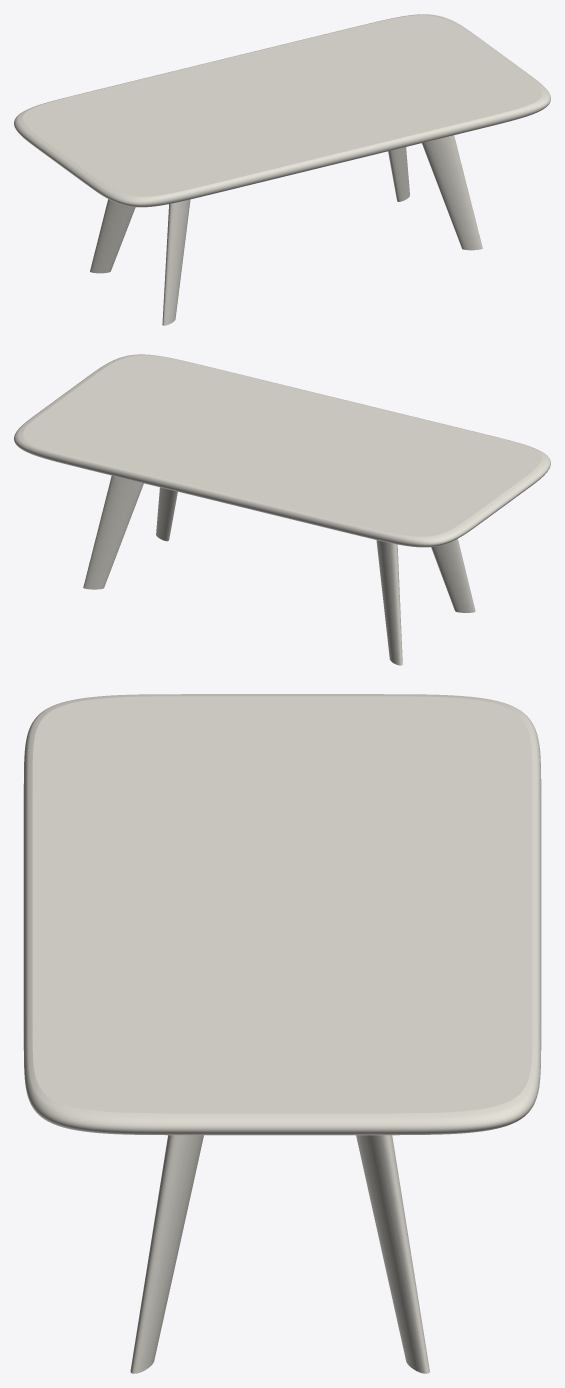
Rendered from pale_softrecta_round_ferdinantwalnut.glb.
3 views of the same model, one above another, from view 1: azimuth 30°, elevation 25°; view 2: azimuth 150°, elevation 25°; view 3: azimuth 270°, elevation 25° (orthographic). The views are drawn at different scales.
Parts seen in each view (by area): view 1: round_softrecta, ferdinandwalnut; view 2: round_softrecta, ferdinandwalnut; view 3: round_softrecta, ferdinandwalnut.
Part boxes in pixels (x1,y1,x2,y2): round_softrecta: [14, 14, 550, 207]; ferdinandwalnut: [90, 135, 482, 325]; round_softrecta: [14, 354, 550, 547]; ferdinandwalnut: [83, 475, 475, 665]; round_softrecta: [23, 694, 541, 1135]; ferdinandwalnut: [130, 1135, 429, 1373].
Bounding box in the file's own units: 7.5 × 2.51 × 3.8.
Materials: 1 (1 with a texture image).
